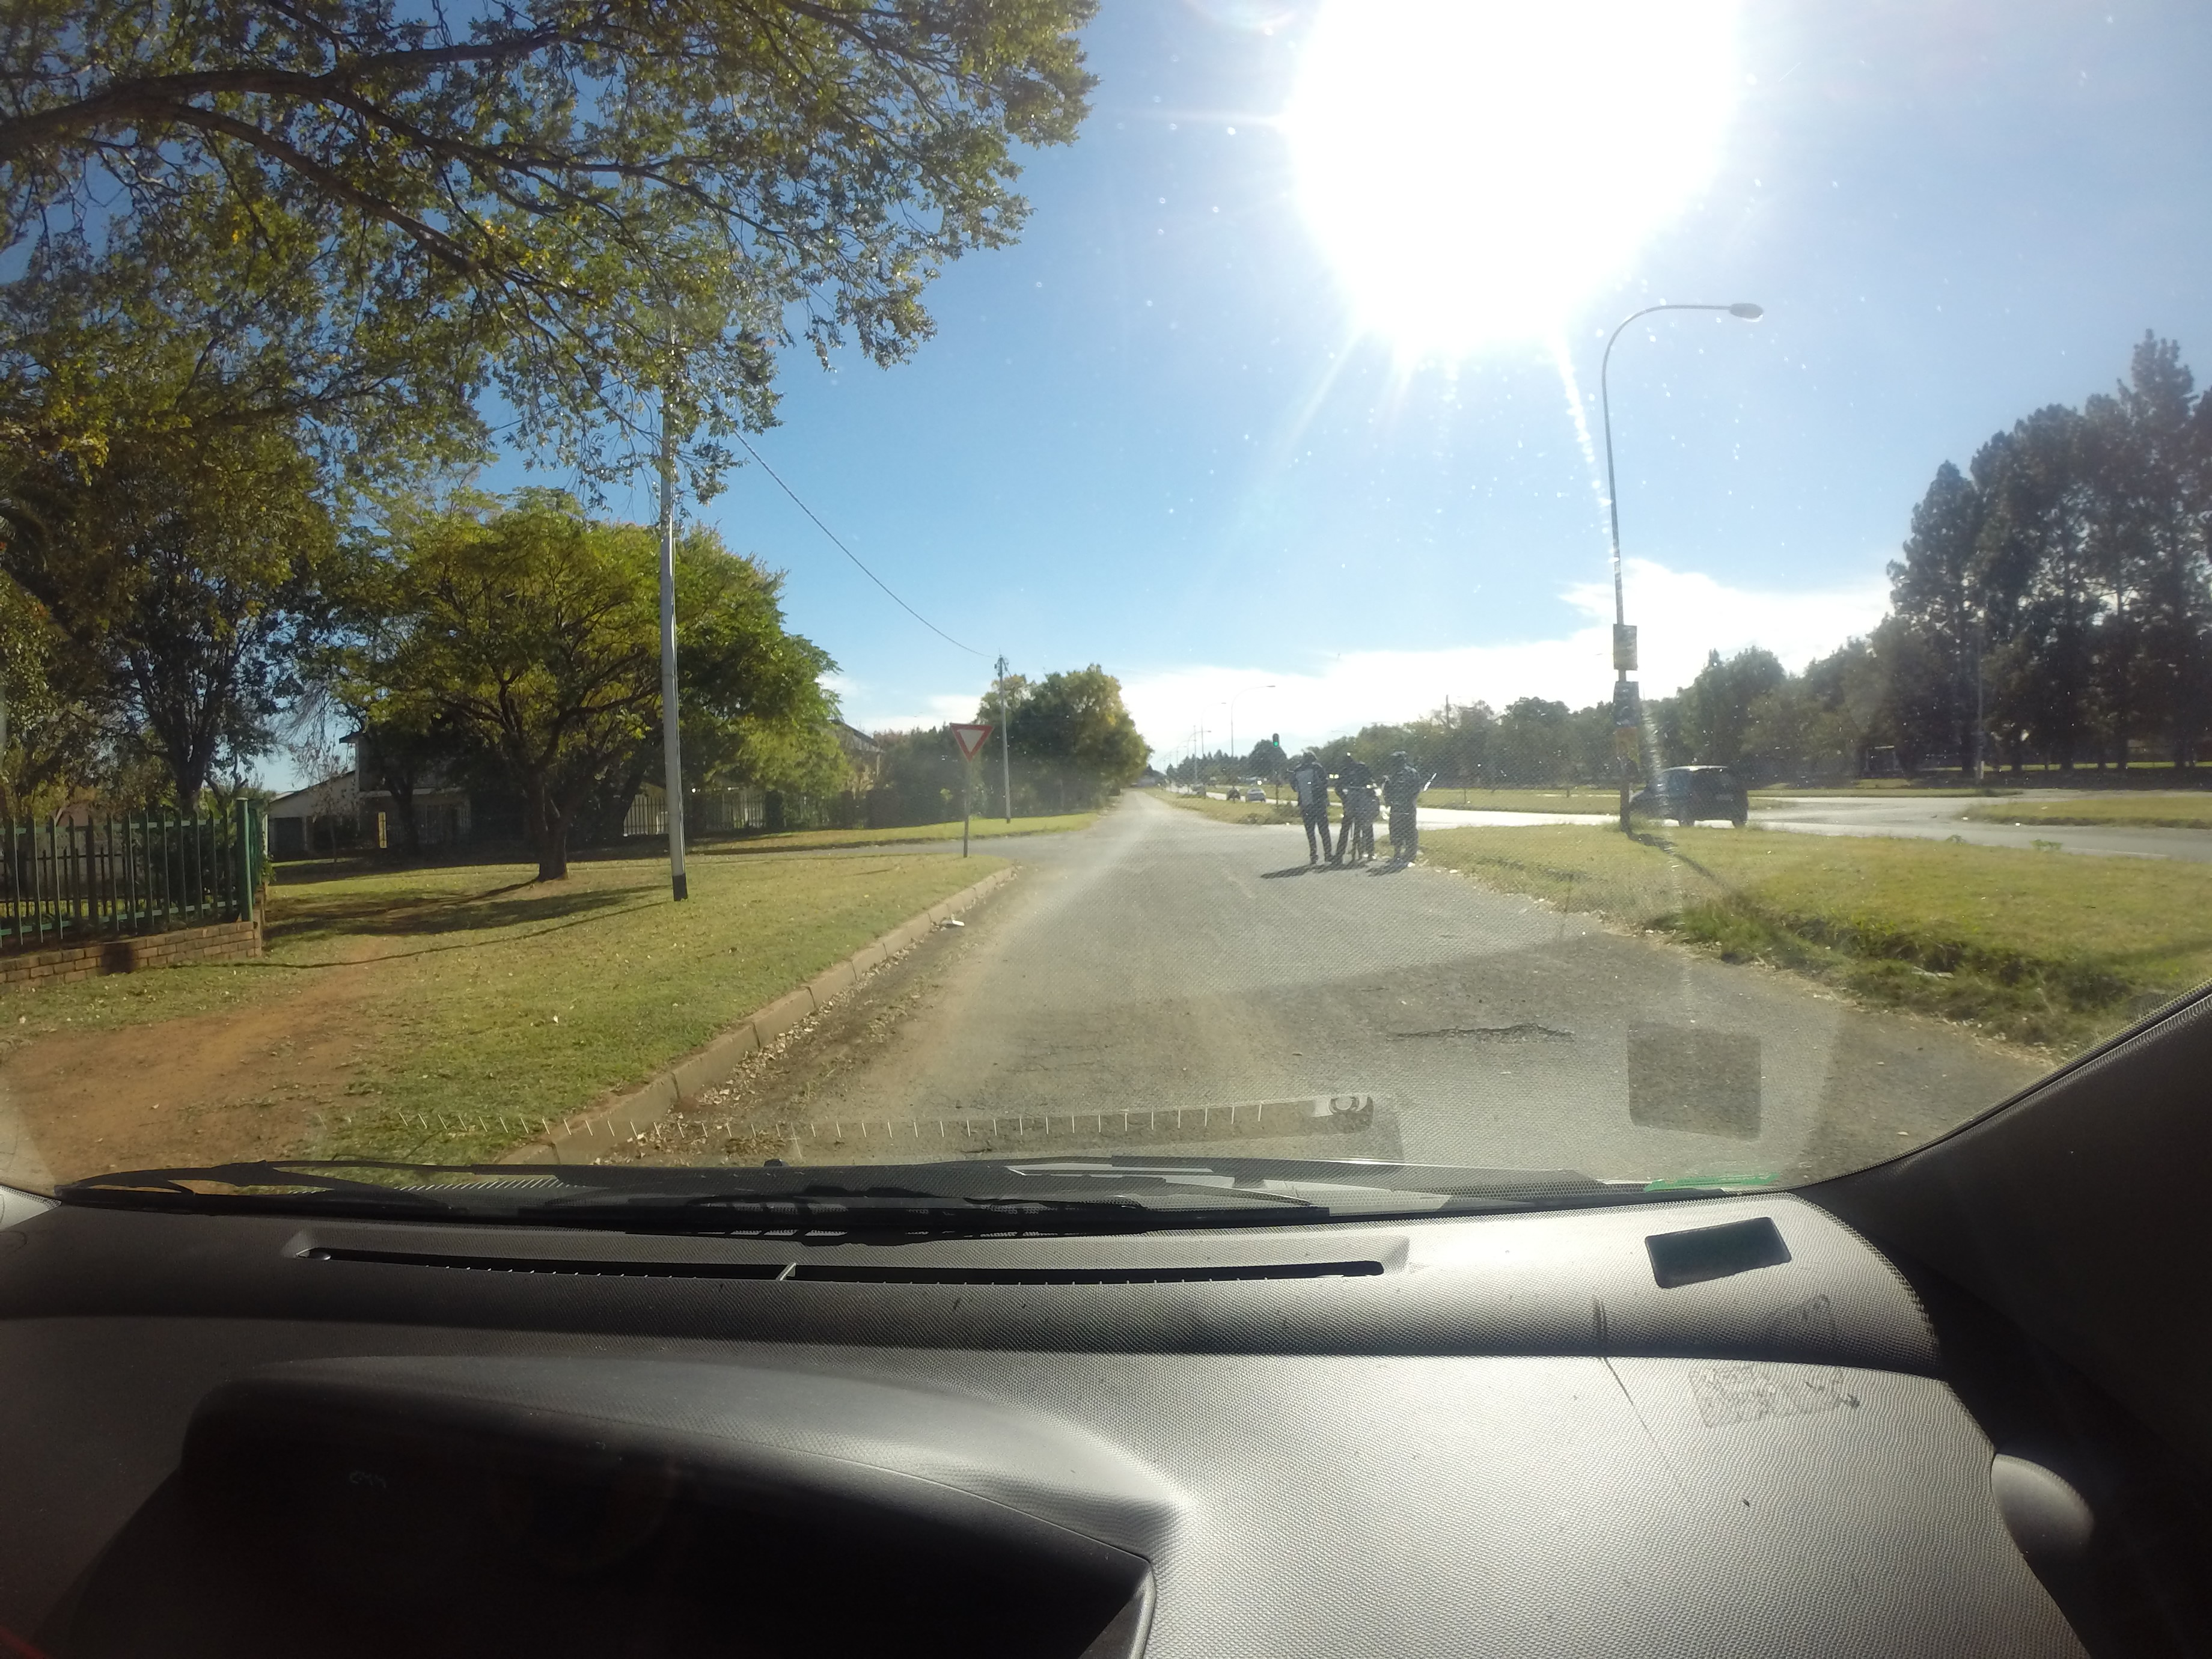pothole: (1372, 985, 1576, 1054)
